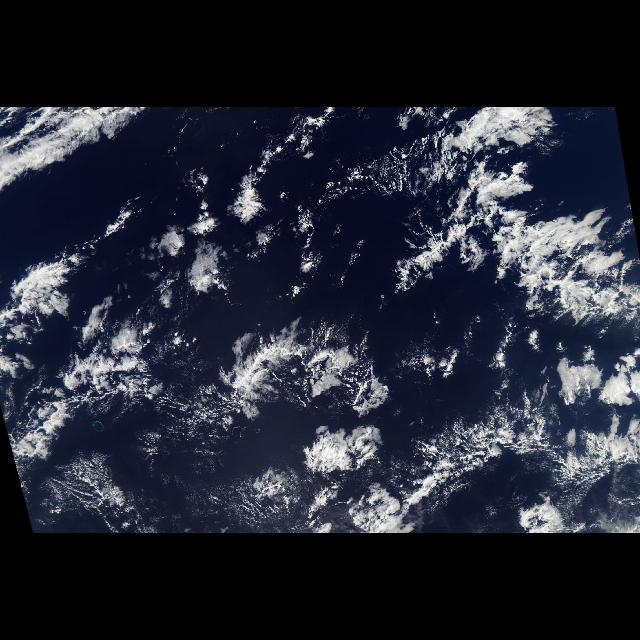Fish: (31, 111, 639, 533)
Flower: (136, 158, 440, 530)
